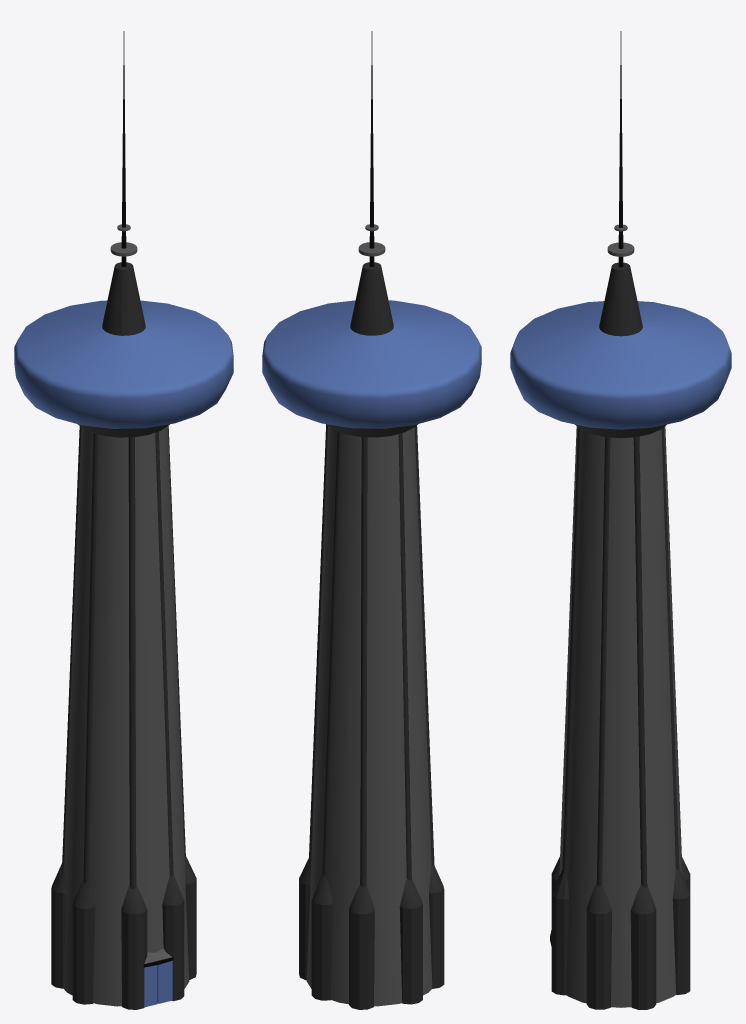
File: SkyNeedle.fbx
3 views of the same model, side by side, from view 1: azimuth 30°, elevation 25°; view 2: azimuth 150°, elevation 25°; view 3: azimuth 270°, elevation 25° (orthographic).
Visible parts, largest first — view 1: Sky_Needle; view 2: Sky_Needle; view 3: Sky_Needle.
Part boxes in pixels (<box>): Sky_Needle: <box>14,31,233,1009</box>; Sky_Needle: <box>262,31,481,1009</box>; Sky_Needle: <box>510,31,731,1009</box>.
Bounding box in the file's own units: 1652 × 7972 × 1652.
